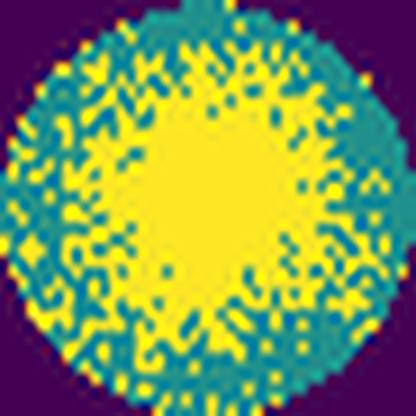Center: (63, 43, 354, 363)
